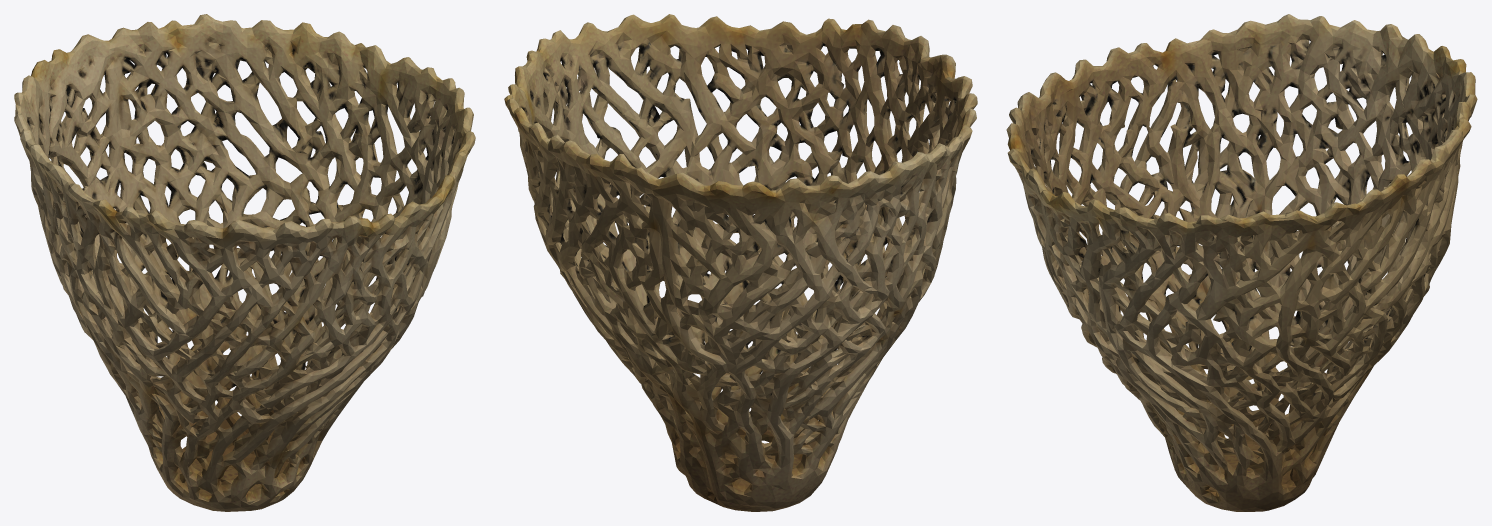
3 renders of one model, left to right at view 1: azimuth 30°, elevation 25°; view 2: azimuth 150°, elevation 25°; view 3: azimuth 270°, elevation 25°, orthographic. The views are drawn at different scales.
Visible parts, largest first — view 1: world; view 2: world; view 3: world.
Boxes of the visible parts, x1,y1,x2,y2 form: world: (14,14,475,511); world: (504,14,977,511); world: (1006,14,1477,511).
Bounding box in the file's own units: 0.9912 × 0.9339 × 0.9976.
Materials: 1 (1 with a texture image).
